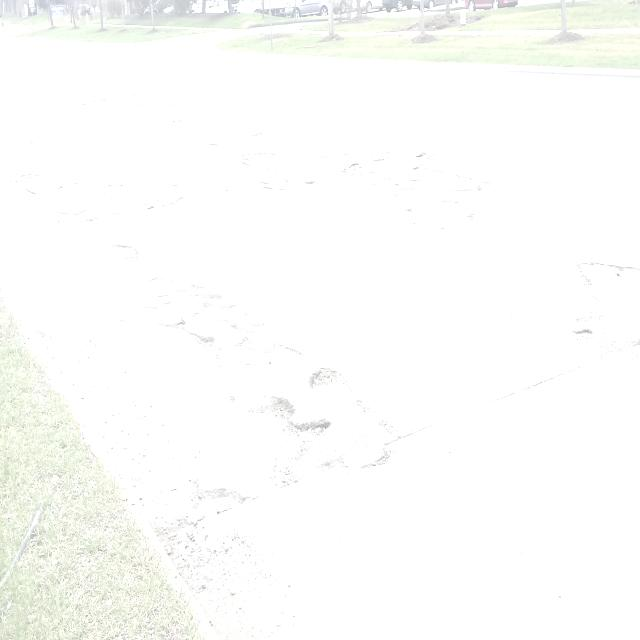Pothole: (116, 265, 402, 516), (231, 118, 492, 242), (7, 162, 235, 264)
